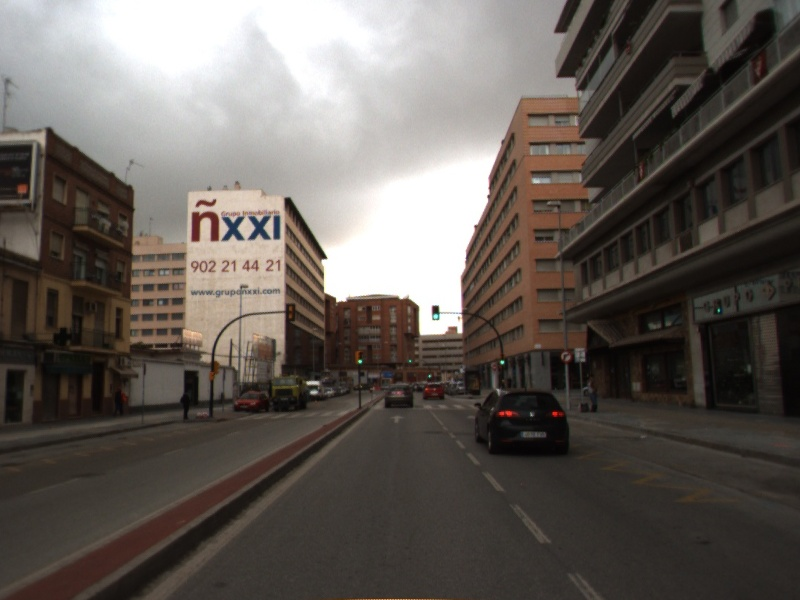STRAIGHT: (388, 414, 407, 425)
